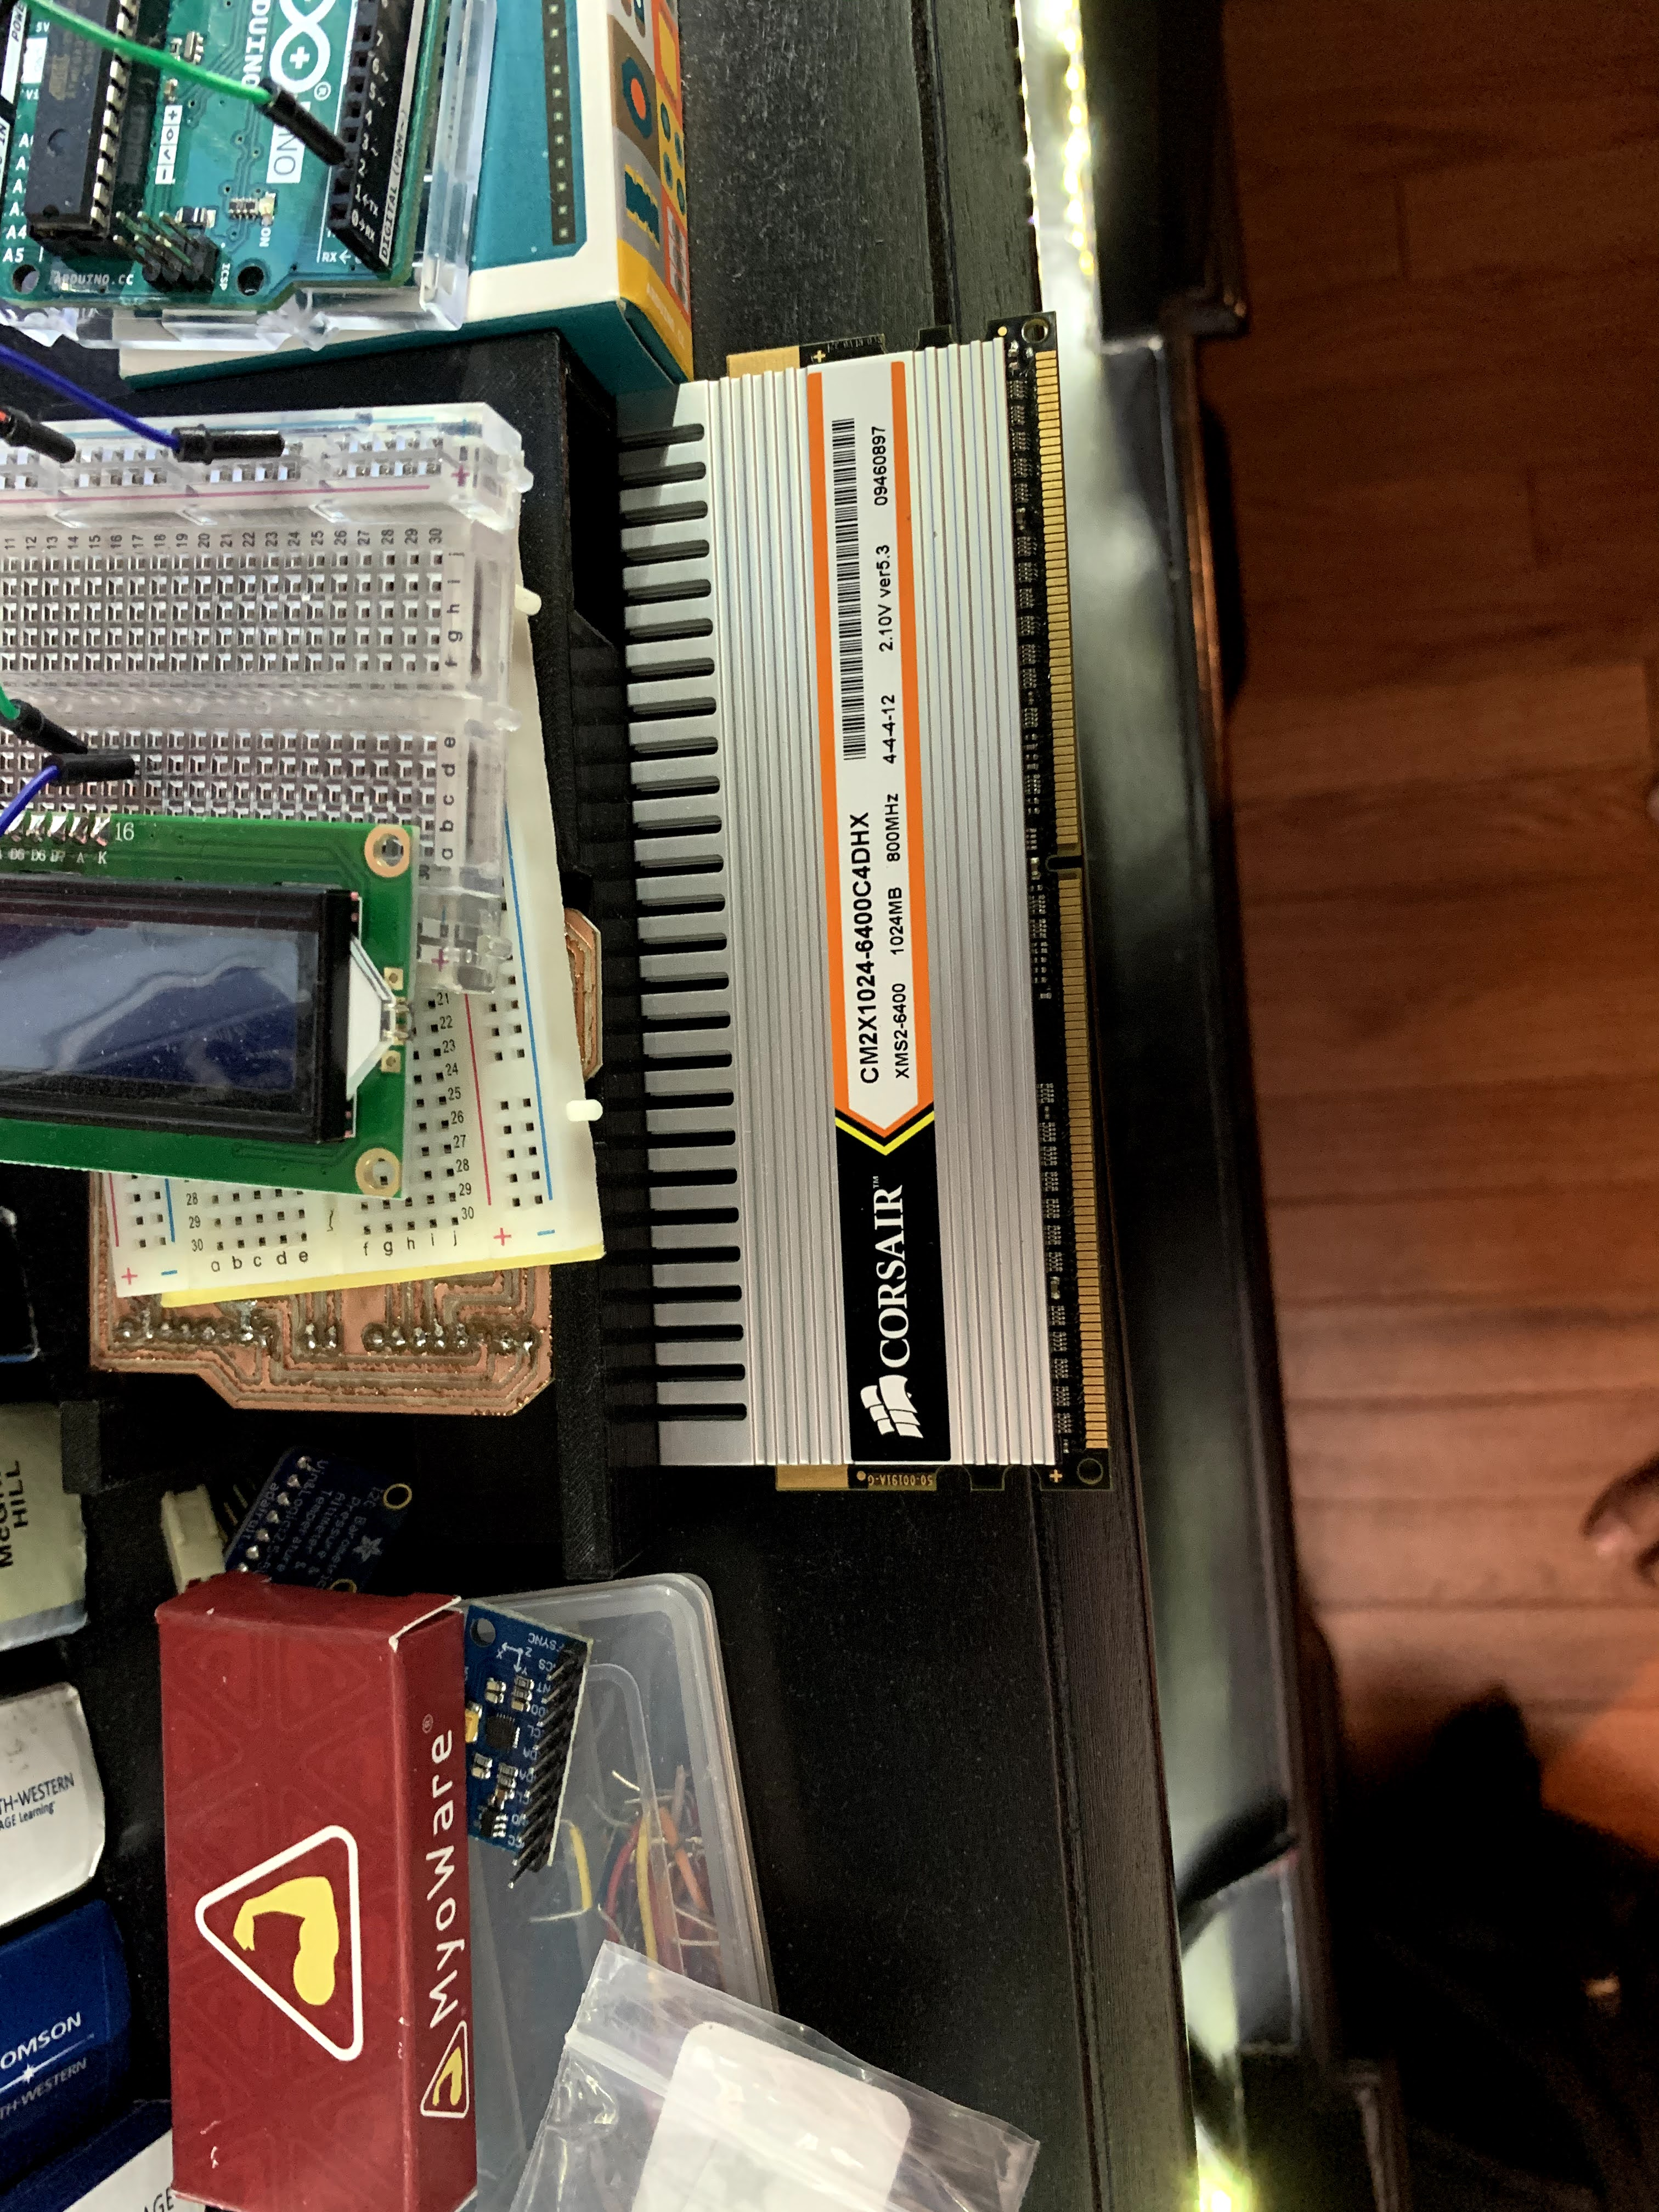Space-debris-medium: (605, 310, 1138, 1521)
